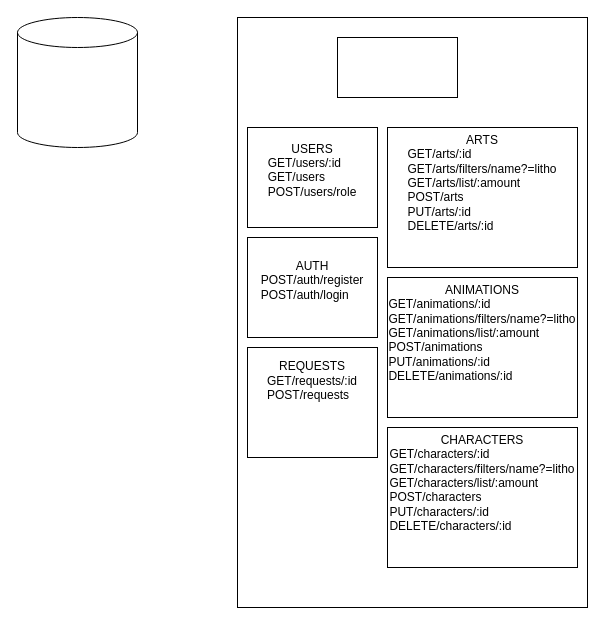
Some shapes in this 605 by 625 pixel diagram are drawn without their labels. Each missing label, with the box of its shape:
API ( swagger ): (336, 36, 458, 98)
POSTGRE SQL: (16, 16, 138, 148)
